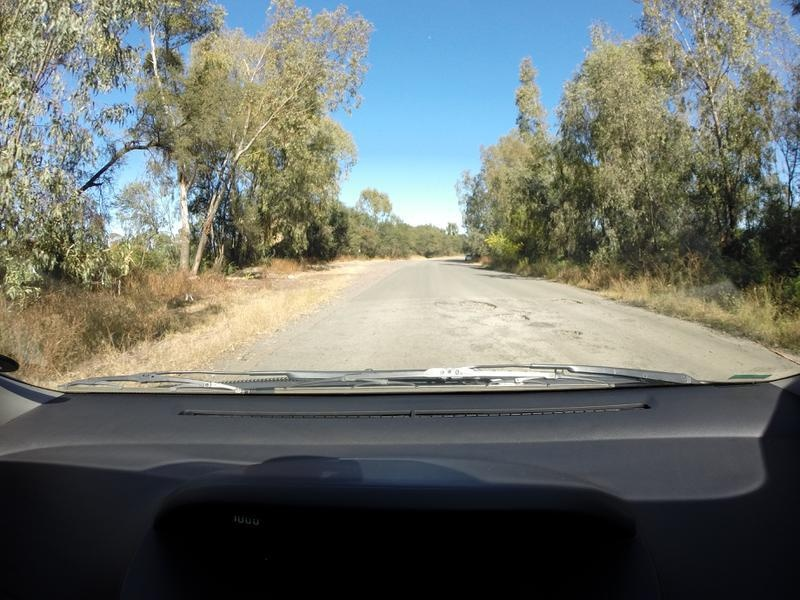pothole: (465, 298, 499, 311), (505, 312, 526, 322), (555, 331, 583, 337), (557, 296, 580, 303)
